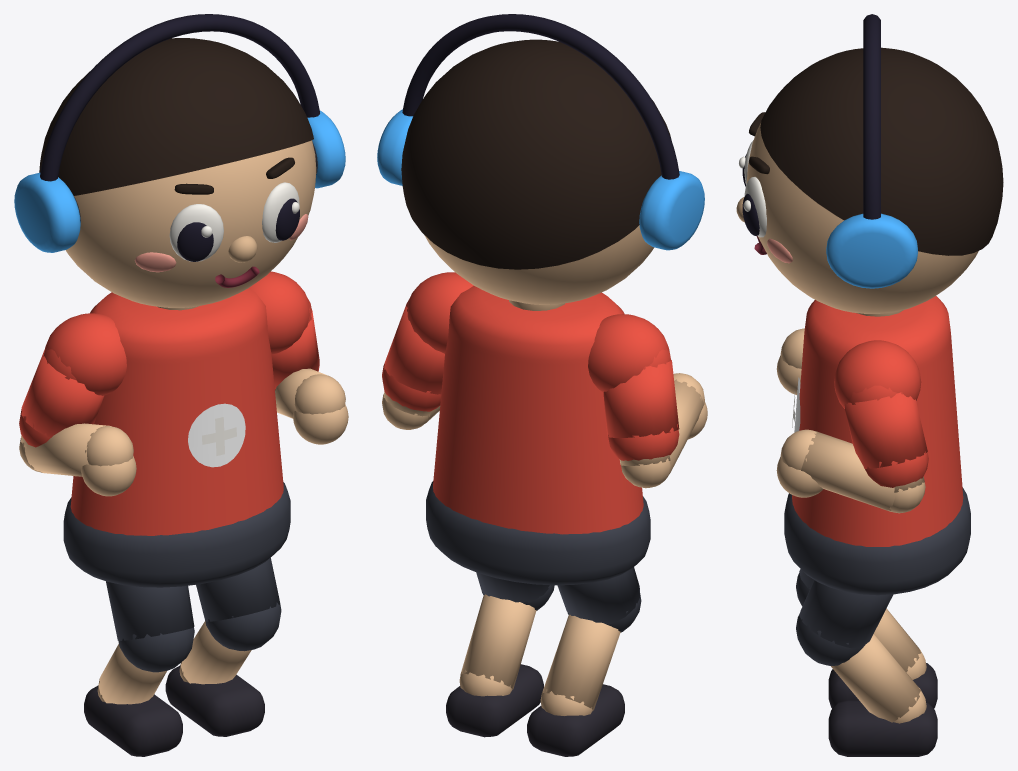
The model's file is ch_passer_runner.fbx.
3 views of the same model, side by side, from view 1: azimuth 30°, elevation 25°; view 2: azimuth 150°, elevation 25°; view 3: azimuth 270°, elevation 25° (orthographic). The views are drawn at different scales.
Visible parts, largest first — view 1: ch_passer_runner__base, ch_passer_runner__anim_leg_l, ch_passer_runner__anim_leg_r, ch_passer_runner__anim_arm_l, ch_passer_runner__anim_arm_r; view 2: ch_passer_runner__base, ch_passer_runner__anim_leg_l, ch_passer_runner__anim_leg_r, ch_passer_runner__anim_arm_l, ch_passer_runner__anim_arm_r; view 3: ch_passer_runner__base, ch_passer_runner__anim_leg_r, ch_passer_runner__anim_arm_r, ch_passer_runner__anim_leg_l, ch_passer_runner__anim_arm_l.
Boxes of the visible parts, x1,y1,x2,y2 form: ch_passer_runner__base: [14, 14, 345, 587]; ch_passer_runner__anim_leg_l: [84, 581, 194, 756]; ch_passer_runner__anim_leg_r: [165, 557, 281, 736]; ch_passer_runner__anim_arm_l: [19, 348, 136, 496]; ch_passer_runner__anim_arm_r: [271, 297, 348, 444]; ch_passer_runner__base: [377, 14, 704, 585]; ch_passer_runner__anim_leg_l: [527, 567, 641, 756]; ch_passer_runner__anim_leg_r: [446, 572, 554, 737]; ch_passer_runner__anim_arm_l: [603, 349, 707, 488]; ch_passer_runner__anim_arm_r: [382, 298, 444, 429]; ch_passer_runner__base: [736, 14, 1003, 595]; ch_passer_runner__anim_leg_r: [796, 580, 937, 756]; ch_passer_runner__anim_arm_r: [776, 385, 928, 513]; ch_passer_runner__anim_leg_l: [796, 569, 937, 708]; ch_passer_runner__anim_arm_l: [776, 328, 804, 394].
Size of the model in its own units: 0.6588 by 1.53 by 0.5288.
